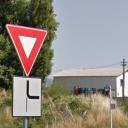preferencia: (4, 22, 50, 76)
